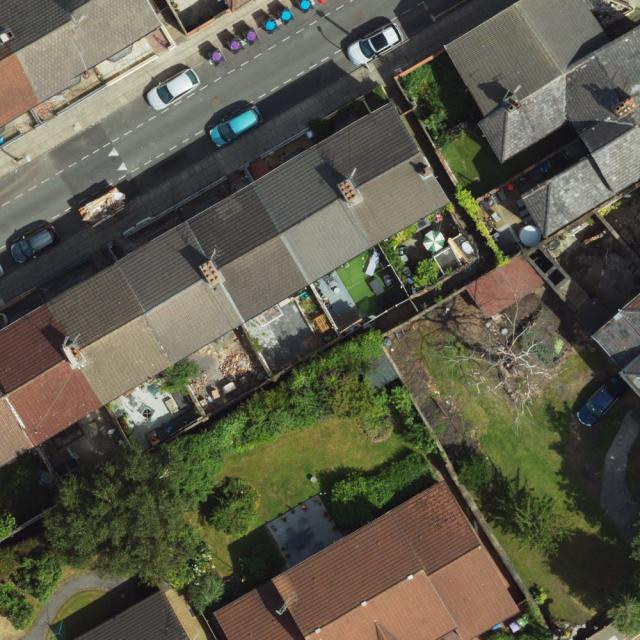roof: (0, 96, 453, 469), (214, 475, 522, 640), (445, 0, 640, 238), (0, 0, 159, 125), (73, 587, 194, 640)
